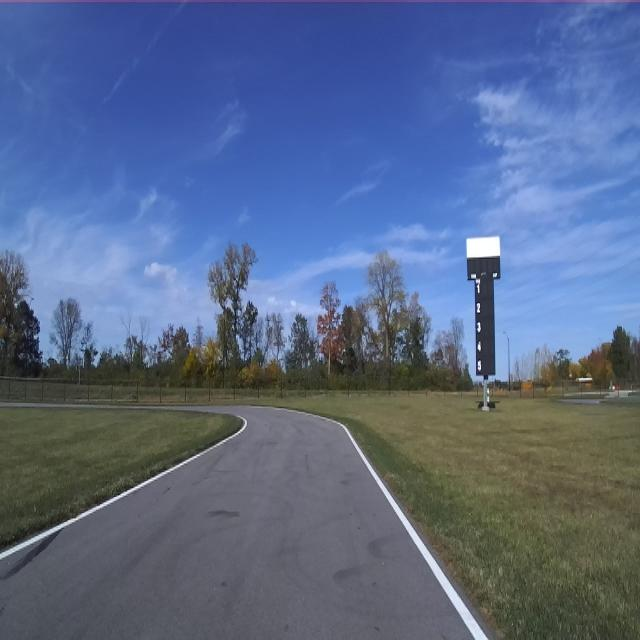white-line: (299, 411, 488, 639), (0, 416, 246, 560)
